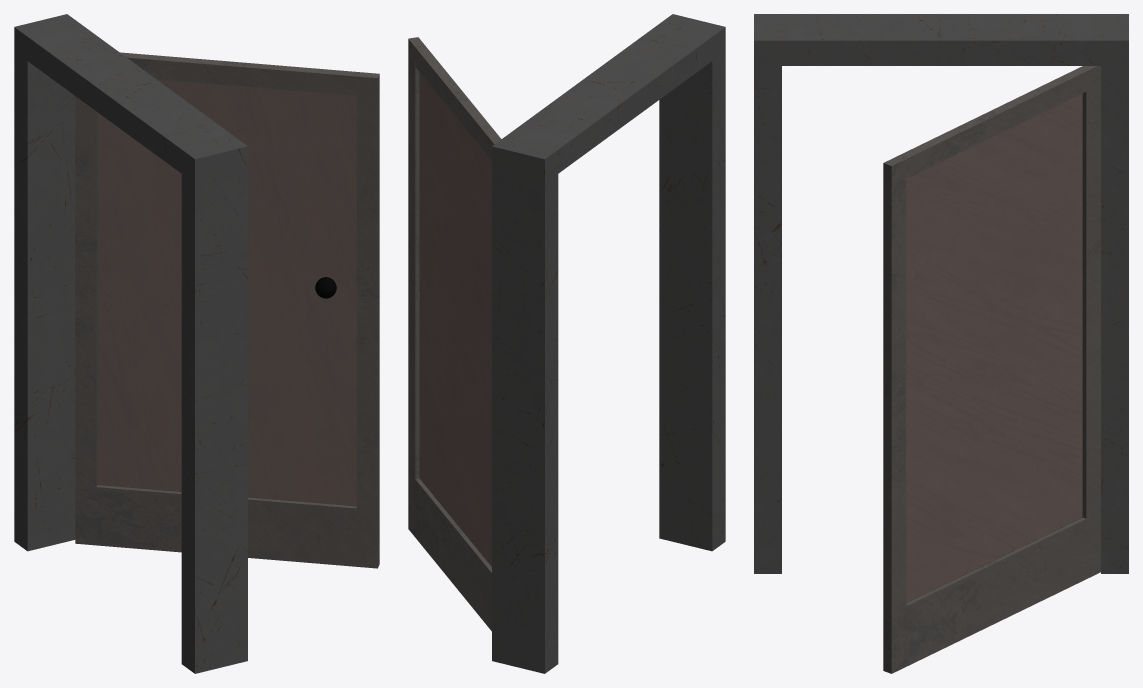
The picture shows the model from 3 angles, left to right: view 1: azimuth 30°, elevation 25°; view 2: azimuth 150°, elevation 25°; view 3: azimuth 270°, elevation 25°; orthographic projection. The views are drawn at different scales.
Visible parts, largest first — view 1: Object001, PivotDoor001; view 2: PivotDoor001, Object001; view 3: Object001, PivotDoor001.
Part boxes in pixels (x1,y1,x2,y2): Object001: (75,52,379,568); PivotDoor001: (14,14,247,673); PivotDoor001: (492,14,725,673); Object001: (408,37,501,631); Object001: (883,66,1100,673); PivotDoor001: (754,14,1128,573).
Size of the model in its own units: 54.02 by 106 by 67.4.
Materials: 1 (1 with a texture image).
